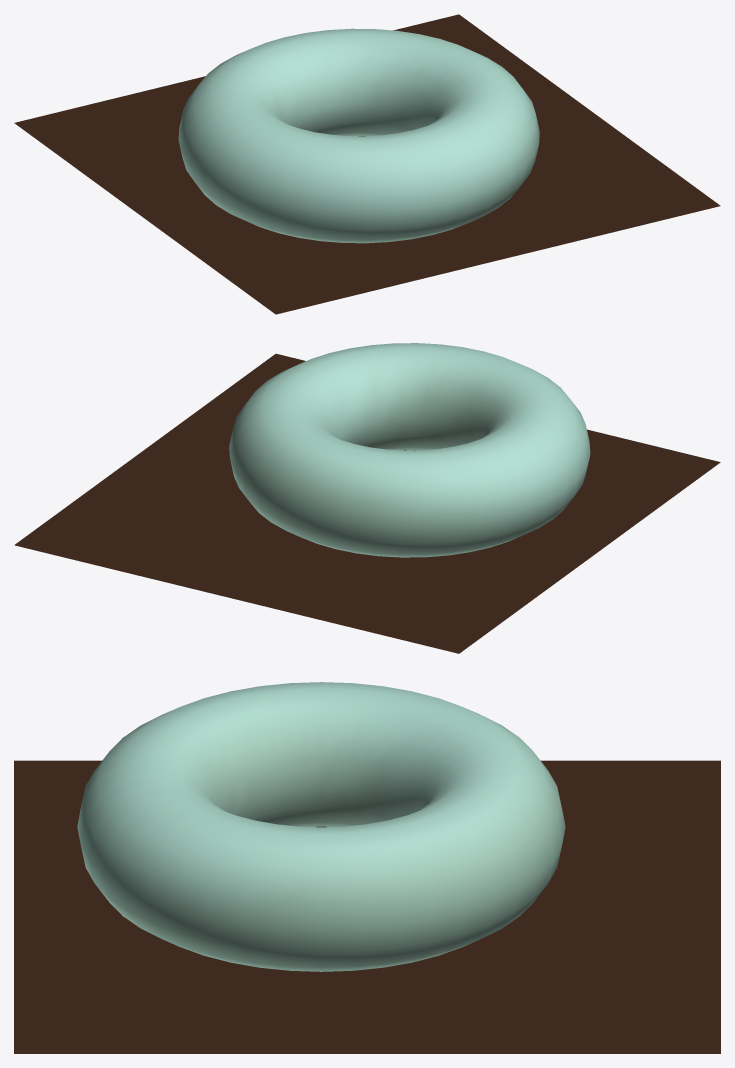
Rendered from float_ring.glb.
The picture shows the model from 3 angles, top to bottom: view 1: azimuth 30°, elevation 25°; view 2: azimuth 150°, elevation 25°; view 3: azimuth 270°, elevation 25°; orthographic projection. The views are drawn at different scales.
Parts seen in each view (by area): view 1: ring, baked_shadow; view 2: baked_shadow, ring; view 3: baked_shadow, ring.
Boxes of the visible parts, box(x1,y1,x2,y2) form: ring: box(178, 28, 539, 243); baked_shadow: box(14, 14, 720, 314); baked_shadow: box(14, 353, 720, 653); ring: box(229, 343, 590, 557); baked_shadow: box(14, 760, 720, 1053); ring: box(77, 682, 565, 971).
Size of the model in its own units: 3.84 by 0.8 by 3.91.
2 materials, 1 textured.
